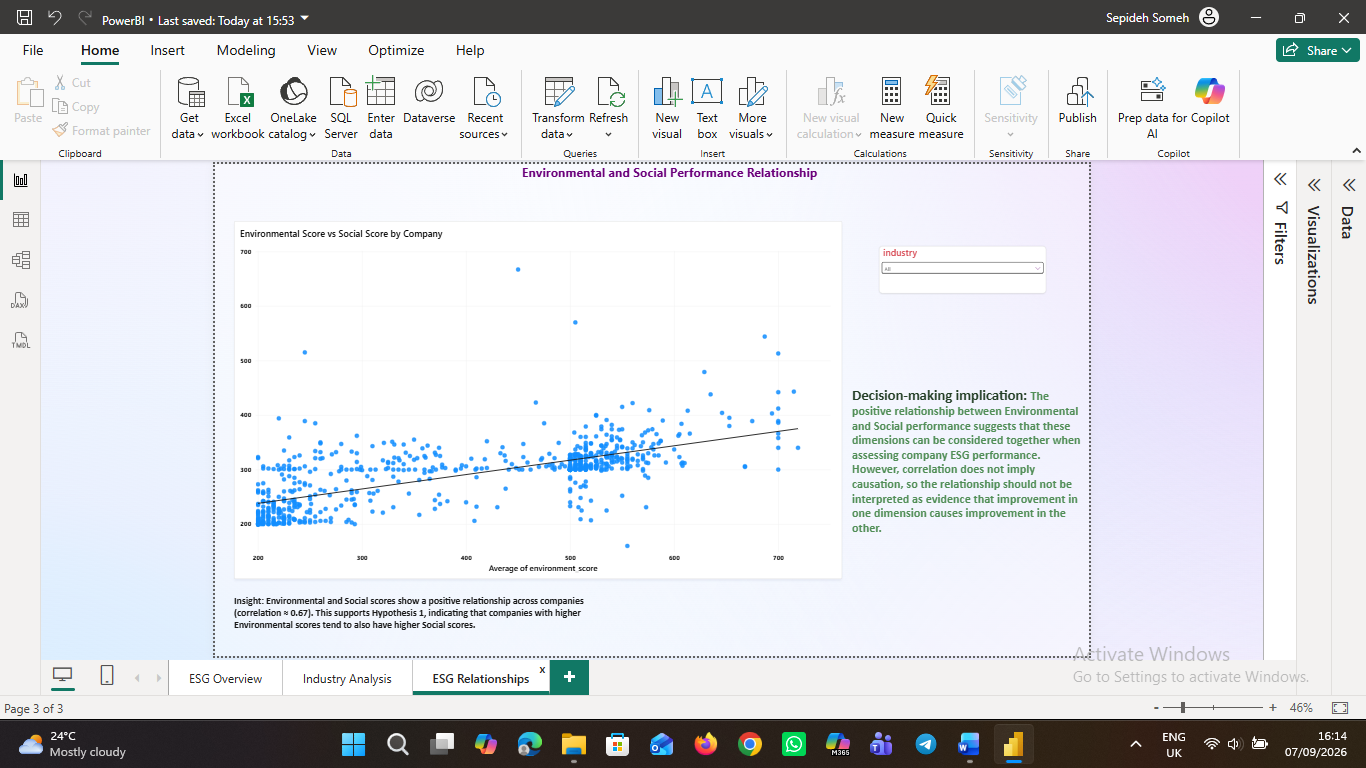

This screenshot's page, from the dashboard's own definition file:
{"tool":"powerbi","page":{"name":"ESG Relationships","canvas":[1920,1080],"ordinal":2},"visuals":[{"type":"textbox","box":[673.9,0,669.6,71.3],"z":0},{"type":"scatterChart","title":"Environmental Score vs Social Score by Company","fields":{"Category":["esg_cleaned.name"],"X":["Avg(esg_cleaned.environment_score)"],"Y":["Avg(esg_cleaned.social_score)"]},"box":[41,125.3,1334.9,786.2],"z":1},{"type":"textbox","box":[41,946.1,803.5,95],"z":2},{"type":"slicer","fields":{"Values":["esg_cleaned.industry"]},"box":[1458,179.3,367.2,103.7],"z":3},{"type":"textbox","box":[1397.5,488.2,518.4,591.8],"z":4}]}

Visuals, with their boxes on the page's 1920x1080 design canvas (x1, y1, x2, y2). These are canvas units, not pixel positions in the 1366x768 screenshot, which may show the page scaled, cropped or inside an application window:
textbox: <box>674,0,1344,71</box>
"Environmental Score vs Social Score by Company" scatterChart: <box>41,125,1376,912</box>
textbox: <box>41,946,844,1041</box>
slicer - esg_cleaned.industry: <box>1458,179,1825,283</box>
textbox: <box>1398,488,1916,1080</box>
